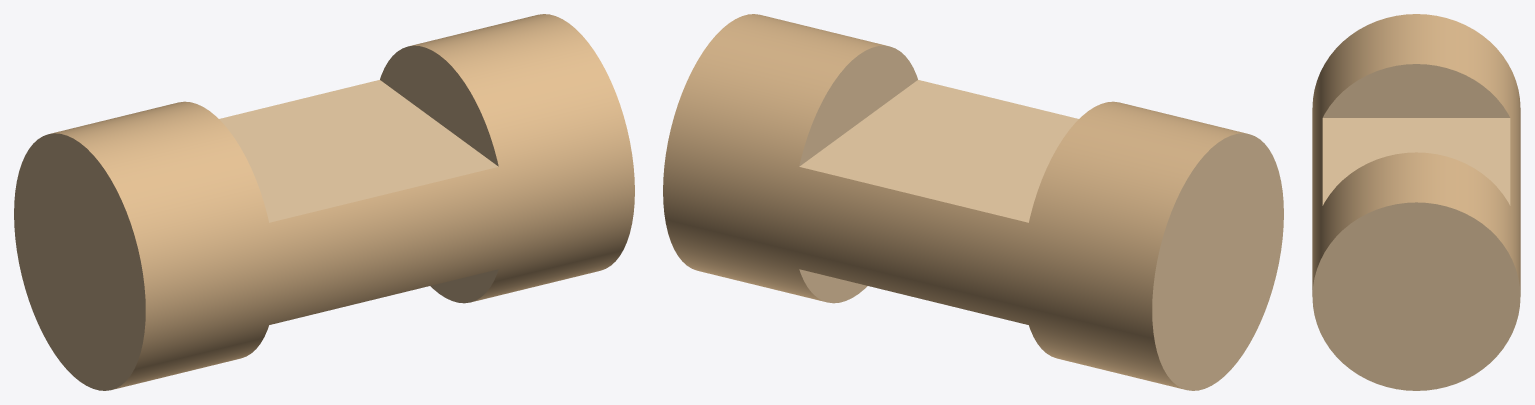
Rendered from SM_RawLog_75_FlatNotch_TopBottom.fbx.
The picture shows the model from 3 angles, left to right: view 1: azimuth 30°, elevation 25°; view 2: azimuth 150°, elevation 25°; view 3: azimuth 270°, elevation 25°; orthographic projection. The views are drawn at different scales.
Visible parts, largest first — view 1: RawLog_75_FlatNotch_TopBottom; view 2: RawLog_75_FlatNotch_TopBottom; view 3: RawLog_75_FlatNotch_TopBottom.
Boxes of the visible parts, left/top/right/bottom form: RawLog_75_FlatNotch_TopBottom: left=14, top=14, right=634, bottom=390; RawLog_75_FlatNotch_TopBottom: left=663, top=14, right=1283, bottom=390; RawLog_75_FlatNotch_TopBottom: left=1312, top=14, right=1520, bottom=390.
Size of what is drawn, in the model's own units: 0.75 by 0.35 by 0.35.
